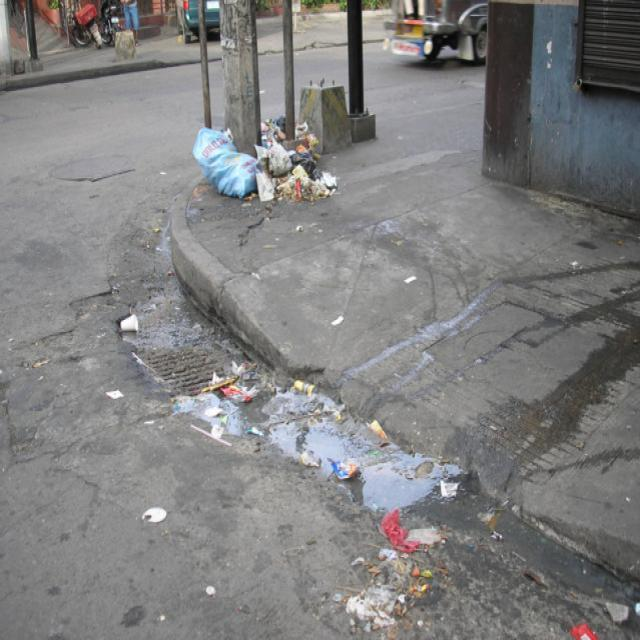trash: (263, 115, 355, 203), (187, 112, 255, 202)
